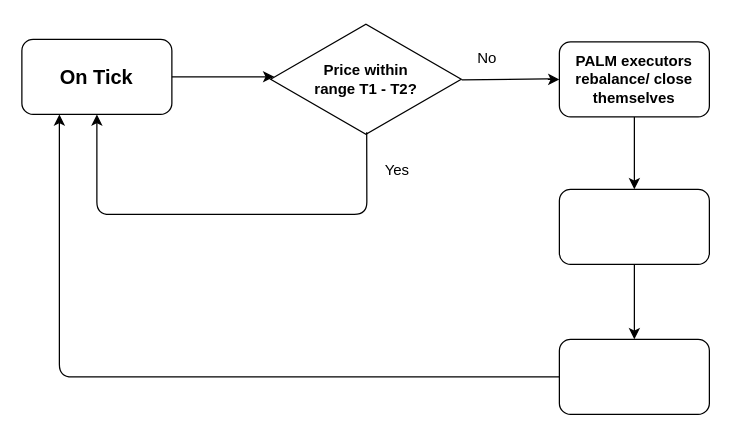
This 731x436 diagram has some shape labels left out. Each missing label, with the centre of its shape:
"controller creates new PALM executor for missing level" belongs at (633,226).
"controller sets new T1 and T2" belongs at (633,376).
